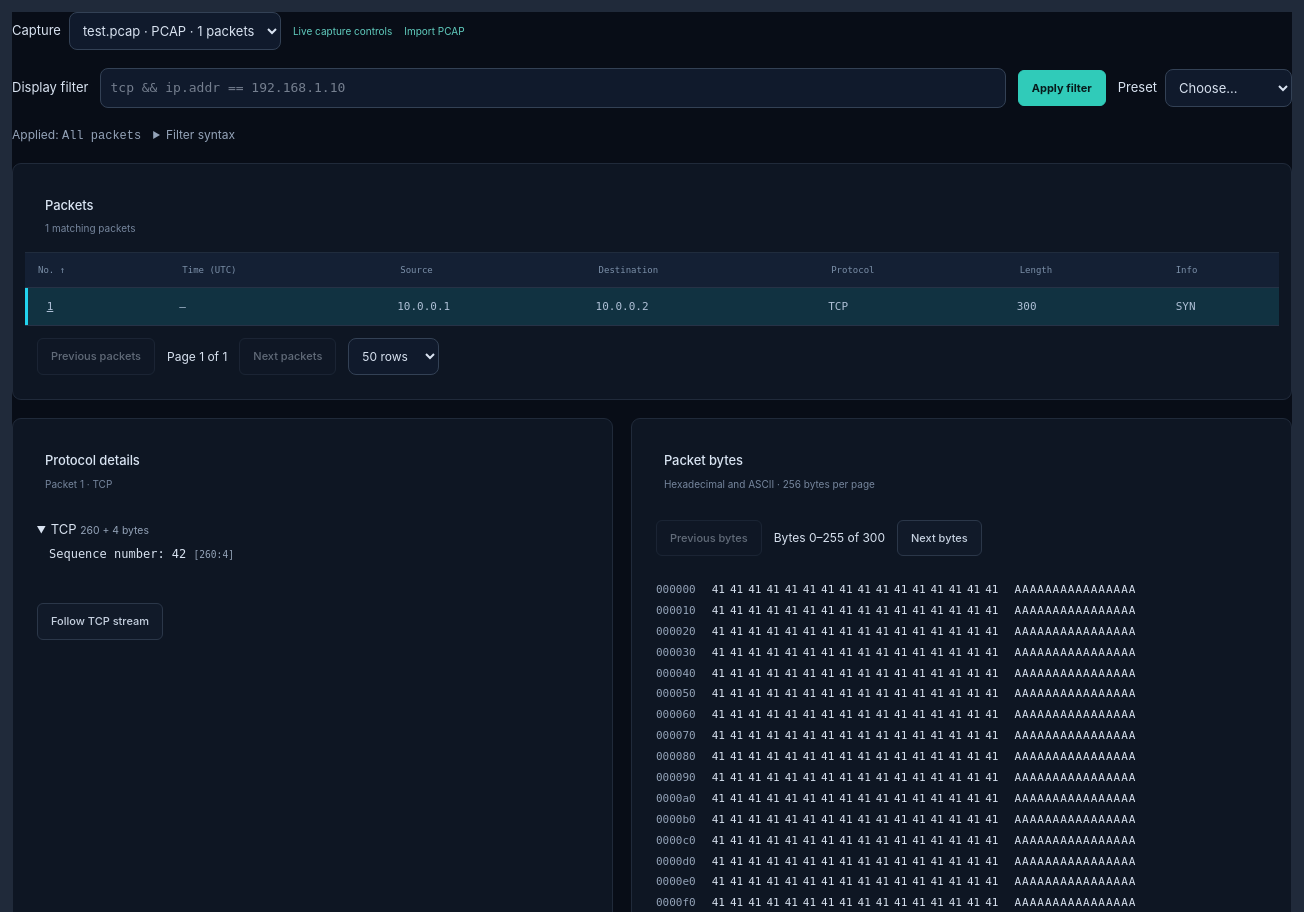
keeps selected packet and results after an invalid filter
The width and height of the screenshot is (1304, 912).
Check: the button "Sequence number: 42 [260:4]" is shown, box [37, 539, 588, 569]
Type "bad" into the field labelled "Display filter" at (553, 88), box [100, 68, 1006, 108]
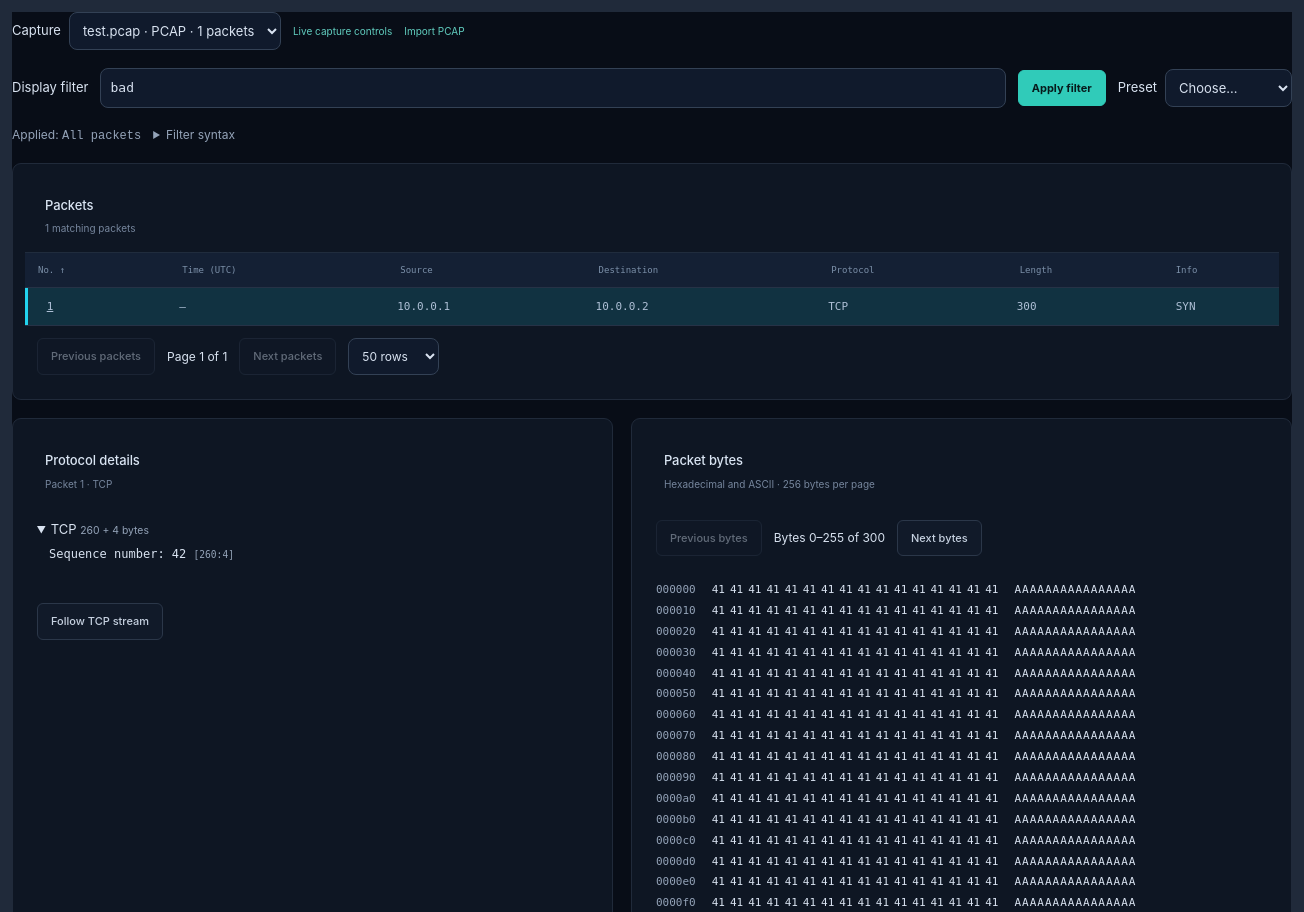
Click the button "Apply filter" at (1062, 88), box [1018, 70, 1106, 106]
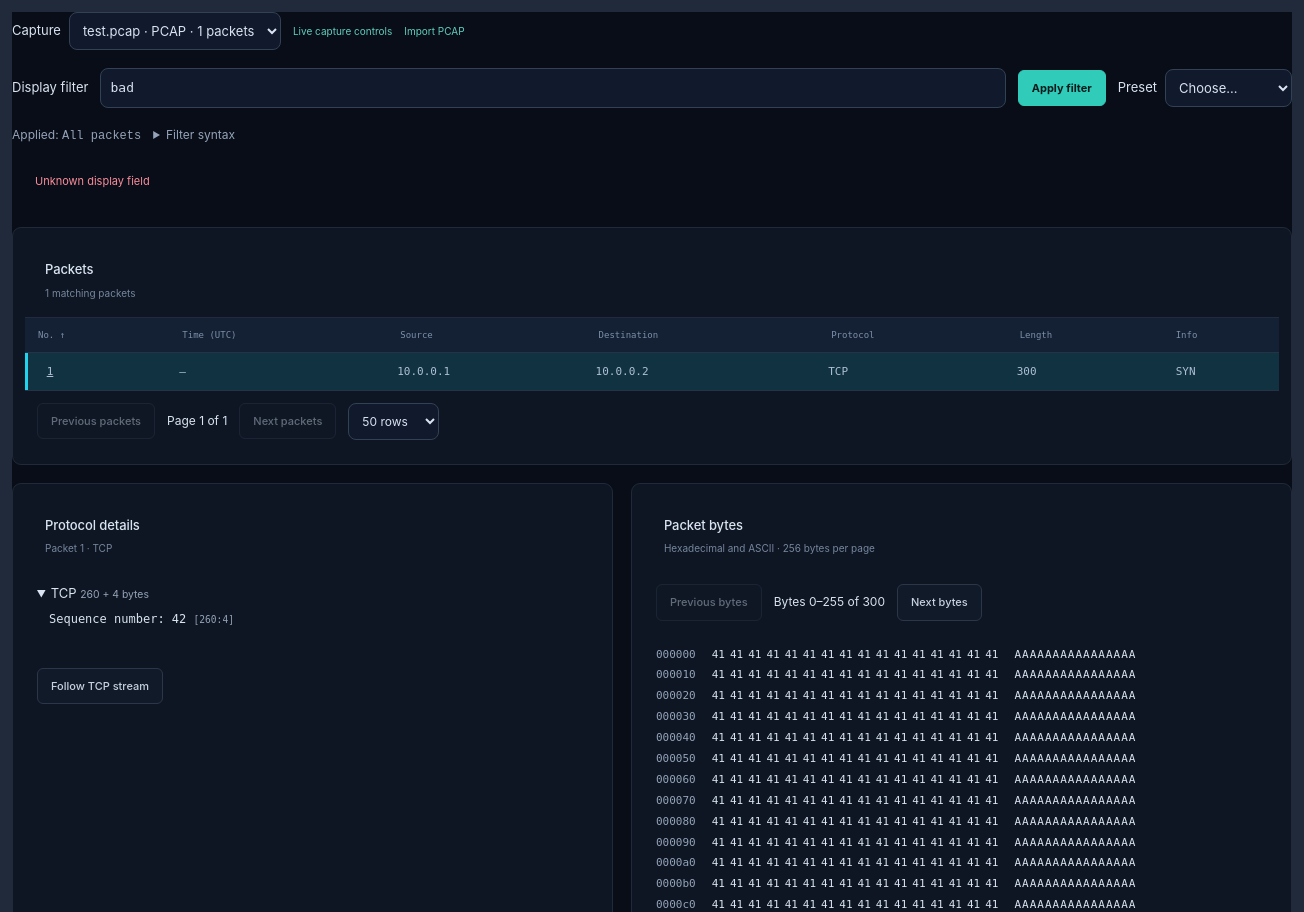
Check: the button "Sequence number: 42 [260:4]" is shown, box [37, 604, 588, 634]
Check: the message reads "Unknown display field", box [35, 174, 150, 188]
